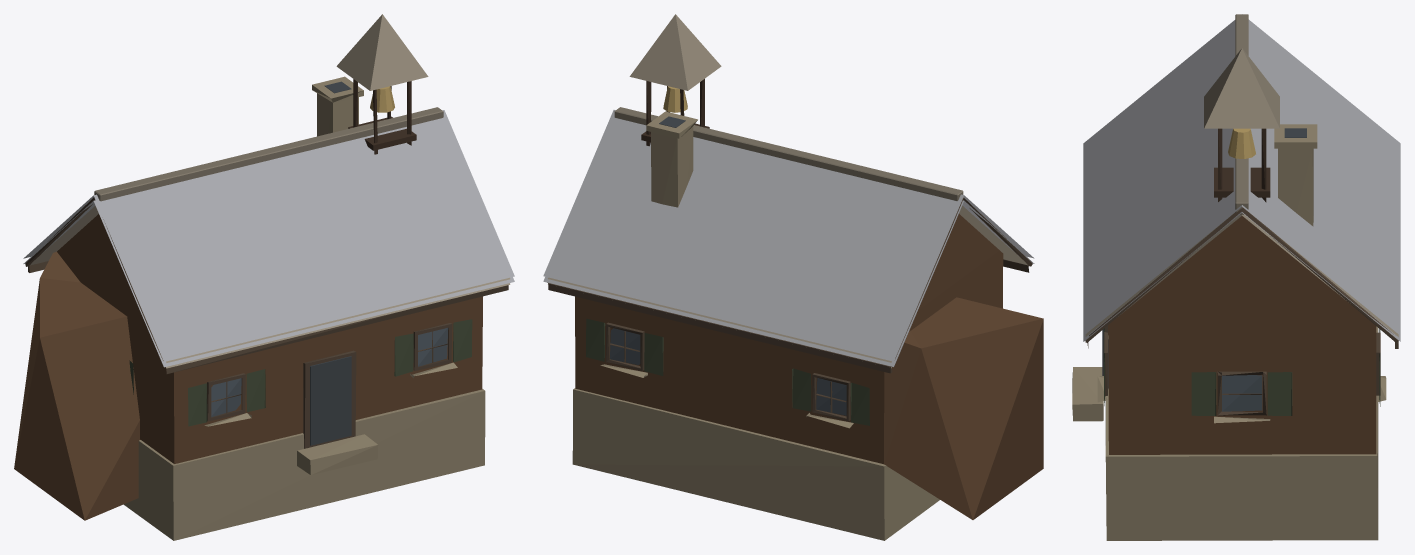
Rendered from chapel-mountain-snow-lod1.glb.
3 renders of one model, left to right at view 1: azimuth 30°, elevation 25°; view 2: azimuth 150°, elevation 25°; view 3: azimuth 270°, elevation 25°, orthographic. The views are drawn at different scales.
Bounding box in the file's own units: 12.13 × 11.6 × 7.35.
